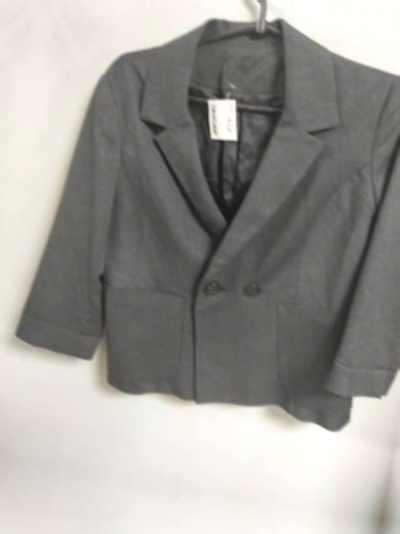Blazer: (0, 1, 400, 454), (0, 0, 36, 389), (0, 522, 364, 534)
